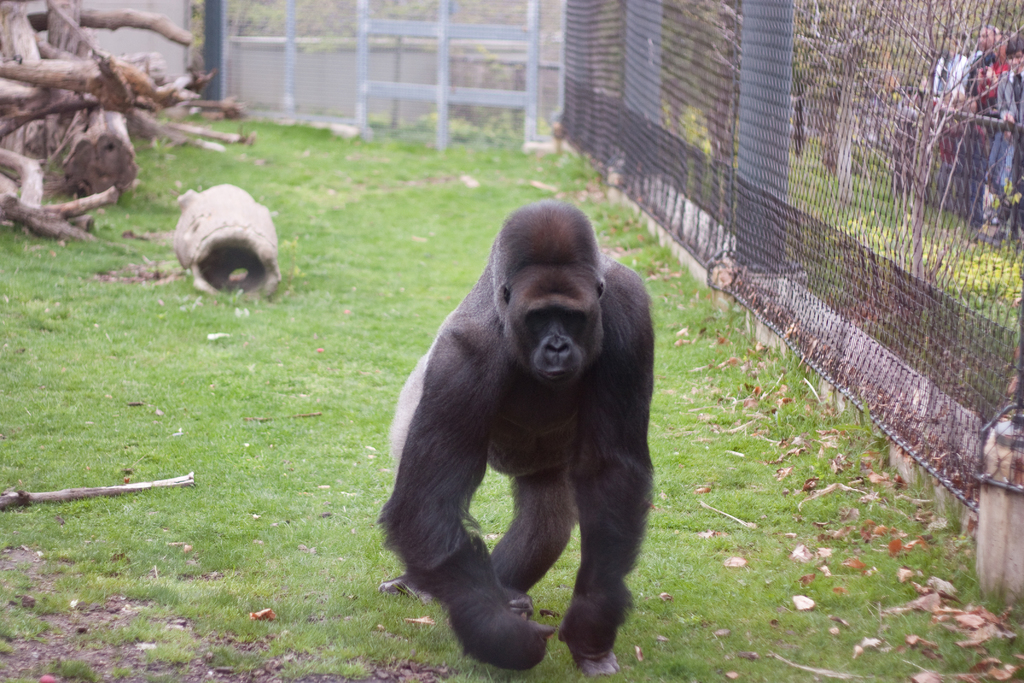Tree: (677, 0, 1023, 377)
